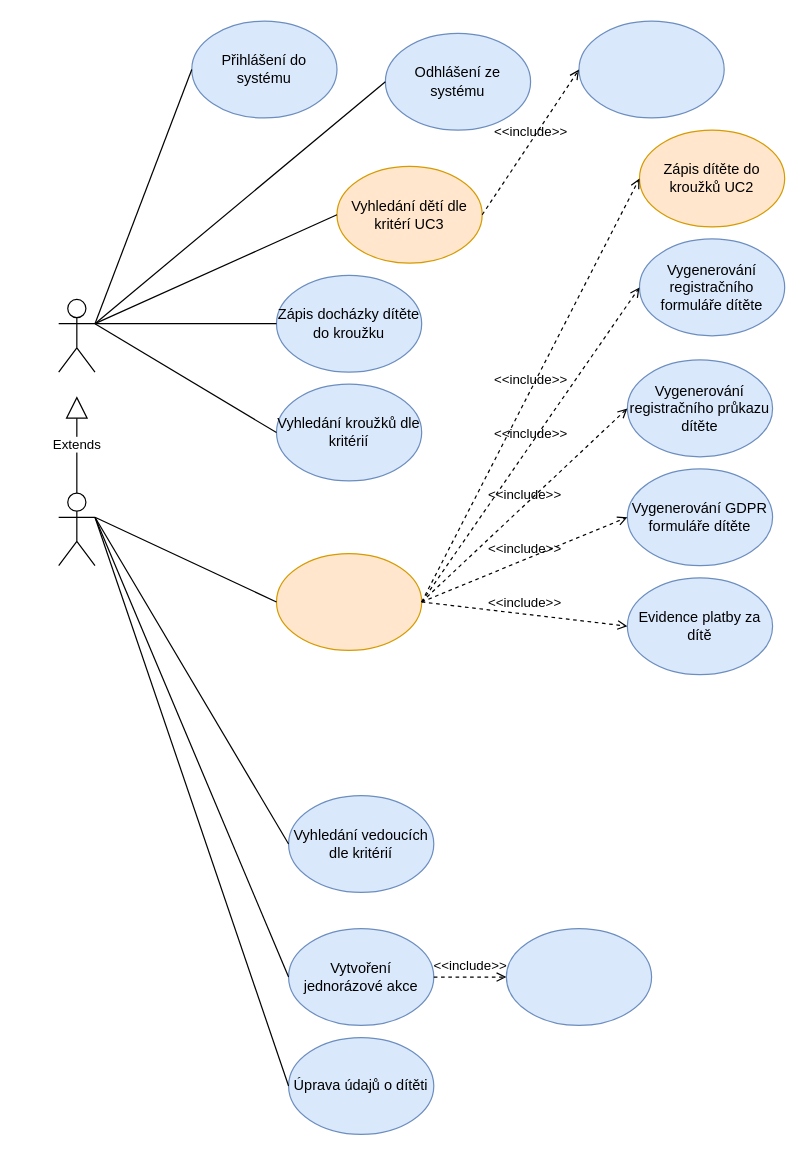
Image size: 806x1156. Some labels were removed from this diagram. Each missing label, with the centre of its shape:
"Registrace dítěte do střediska UC1" goes at (348,601).
"Registrace dítěte na jednorázovou akci" goes at (578,976).
"Rozeslání emailu konkrétní skupině registrovaných dětí" goes at (651,69).
"Uživatel úrovně 1" goes at (76,335).
"Uživatel úrovně 2" goes at (76,529).
